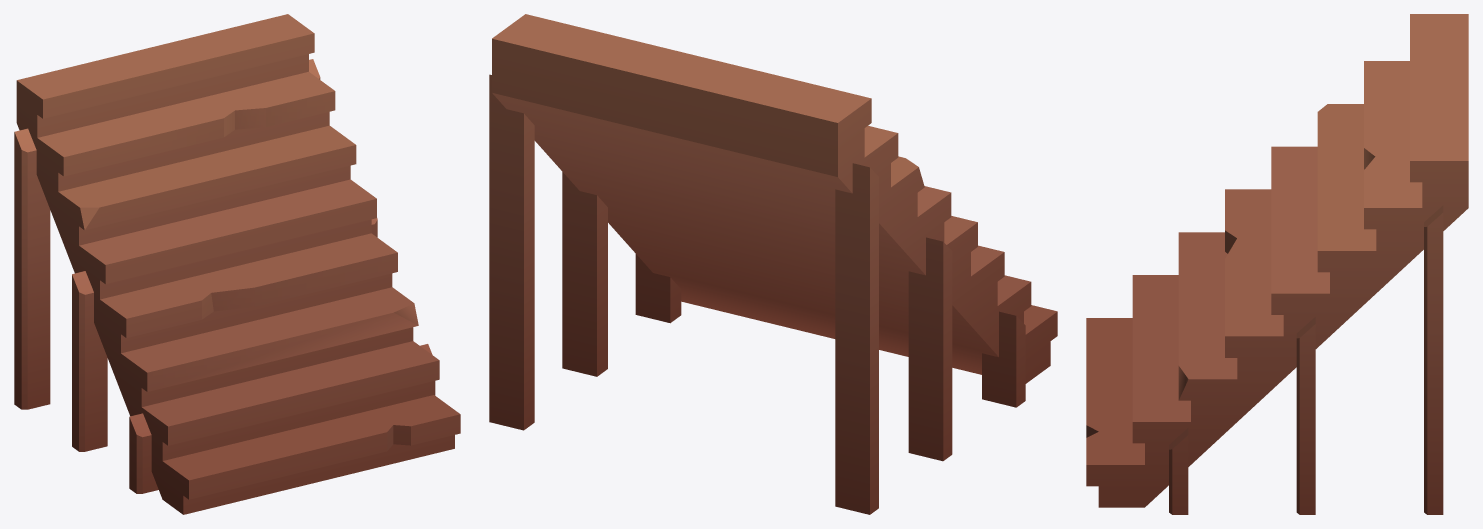
File: stairs_wood.glb
3 views of the same model, side by side, from view 1: azimuth 30°, elevation 25°; view 2: azimuth 150°, elevation 25°; view 3: azimuth 270°, elevation 25° (orthographic). The views are drawn at different scales.
Visible parts, largest first — view 1: stairs_wood; view 2: stairs_wood; view 3: stairs_wood.
Part boxes in pixels (x1=…): stairs_wood: x1=14, y1=14, x2=460, y2=514; stairs_wood: x1=489, y1=14, x2=1057, y2=514; stairs_wood: x1=1086, y1=14, x2=1468, y2=514.
Size of the model in its own units: 1 by 1 by 1.
1 material, 1 textured.
